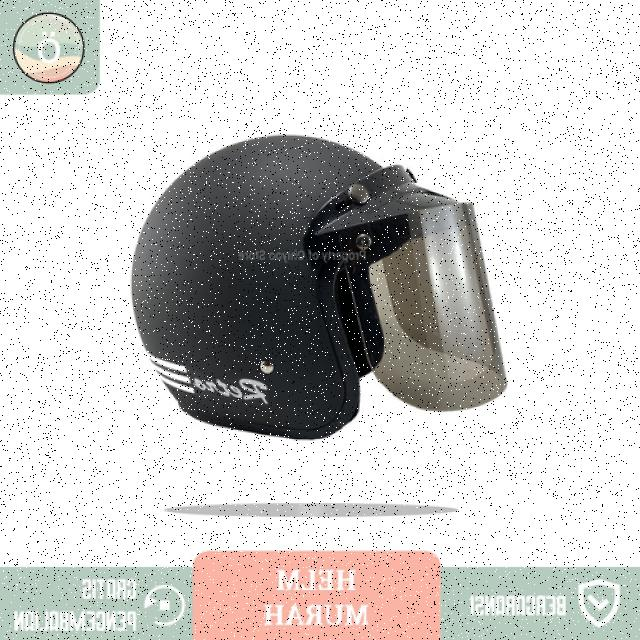Helmet: (129, 136, 507, 442)
